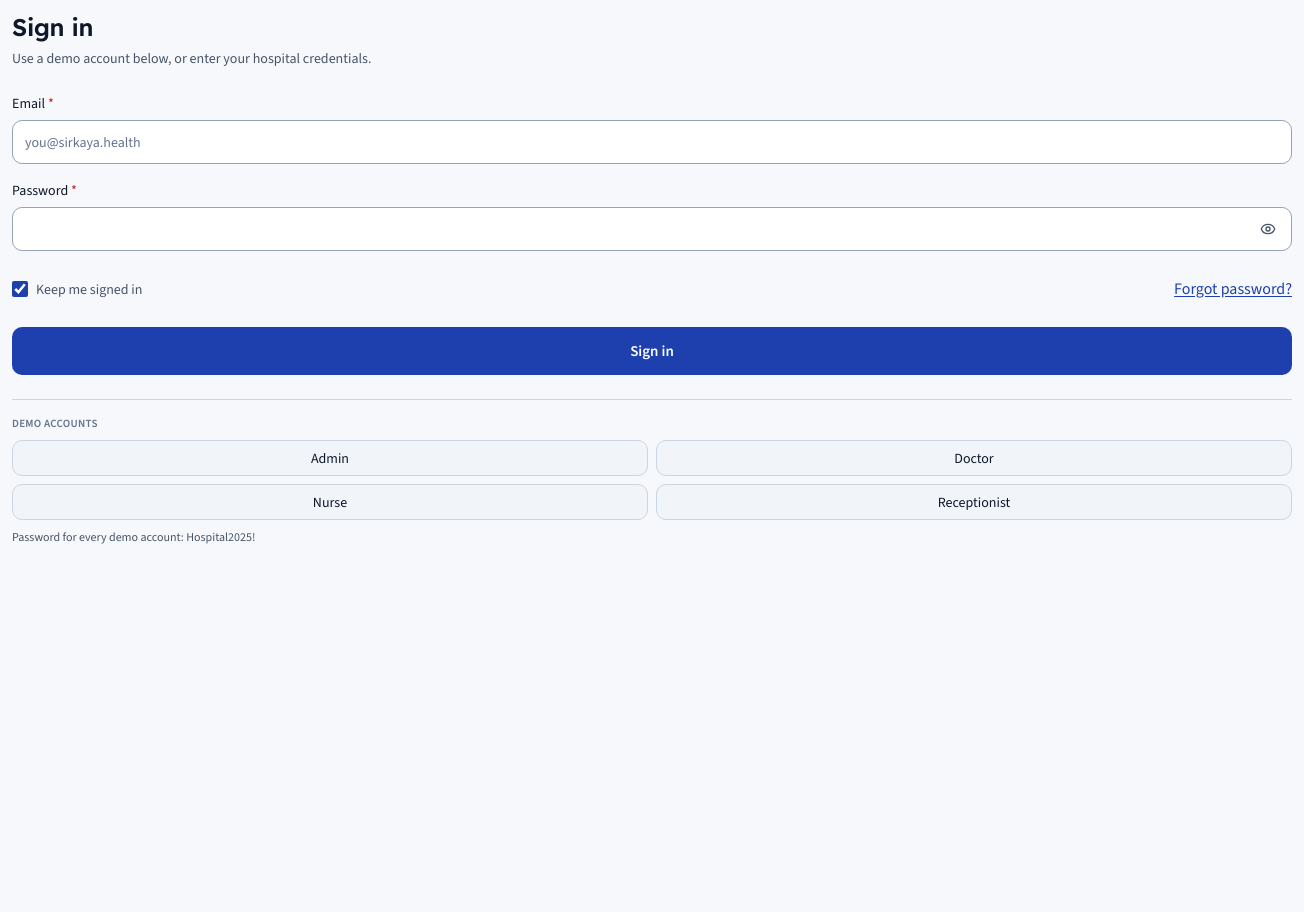
Test: SignInPage a11y (#25/#54) › labels the credentials fields and announces auth errors
expect the password field labelled "Password *" is shown: met, box [12,207,1292,251]
In the field labelled "Email *": (652, 142) [12,120,1292,164], type "bad@test.test"
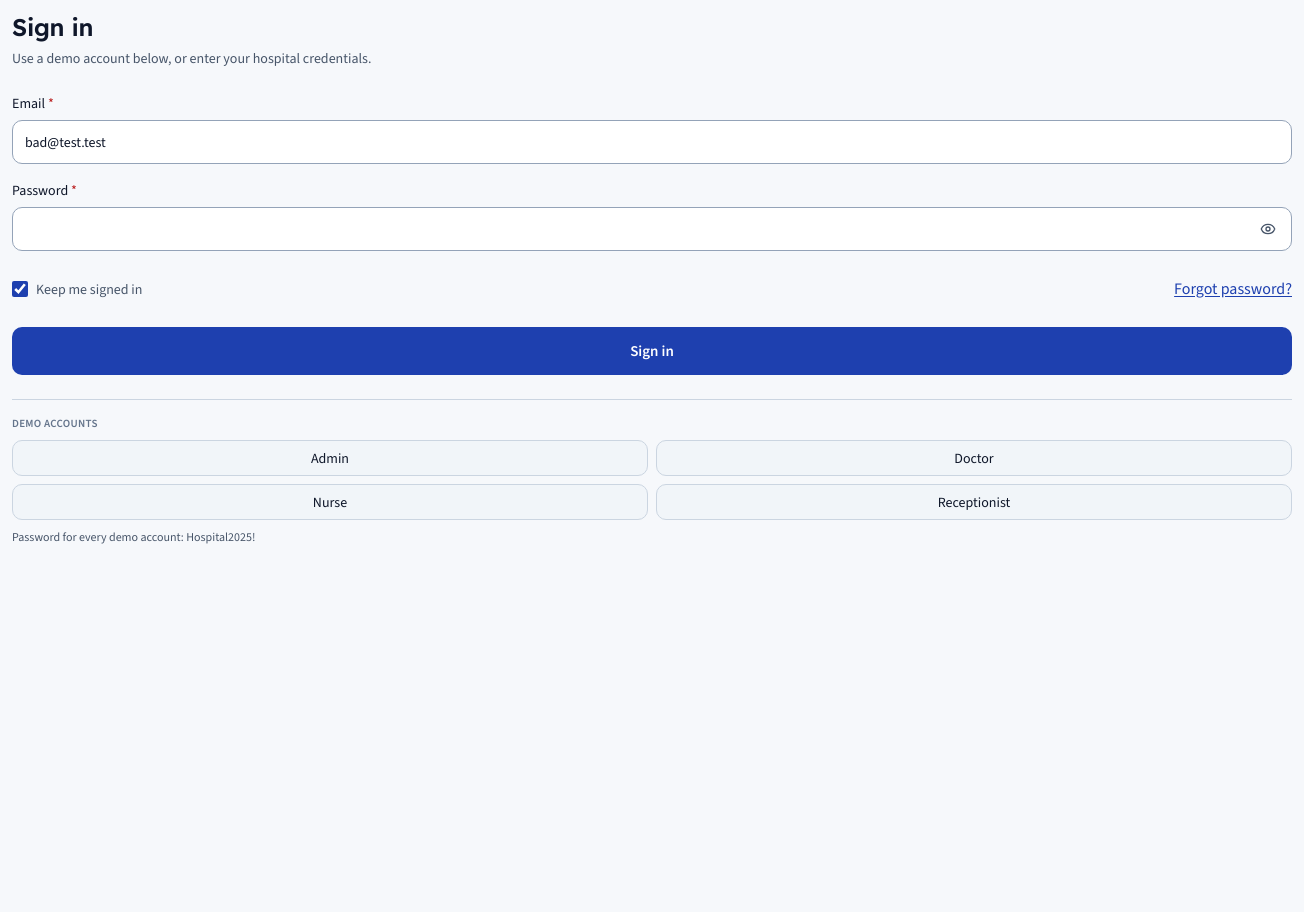
In the password field labelled "Password *": (652, 229) [12,207,1292,251], type "wrong"
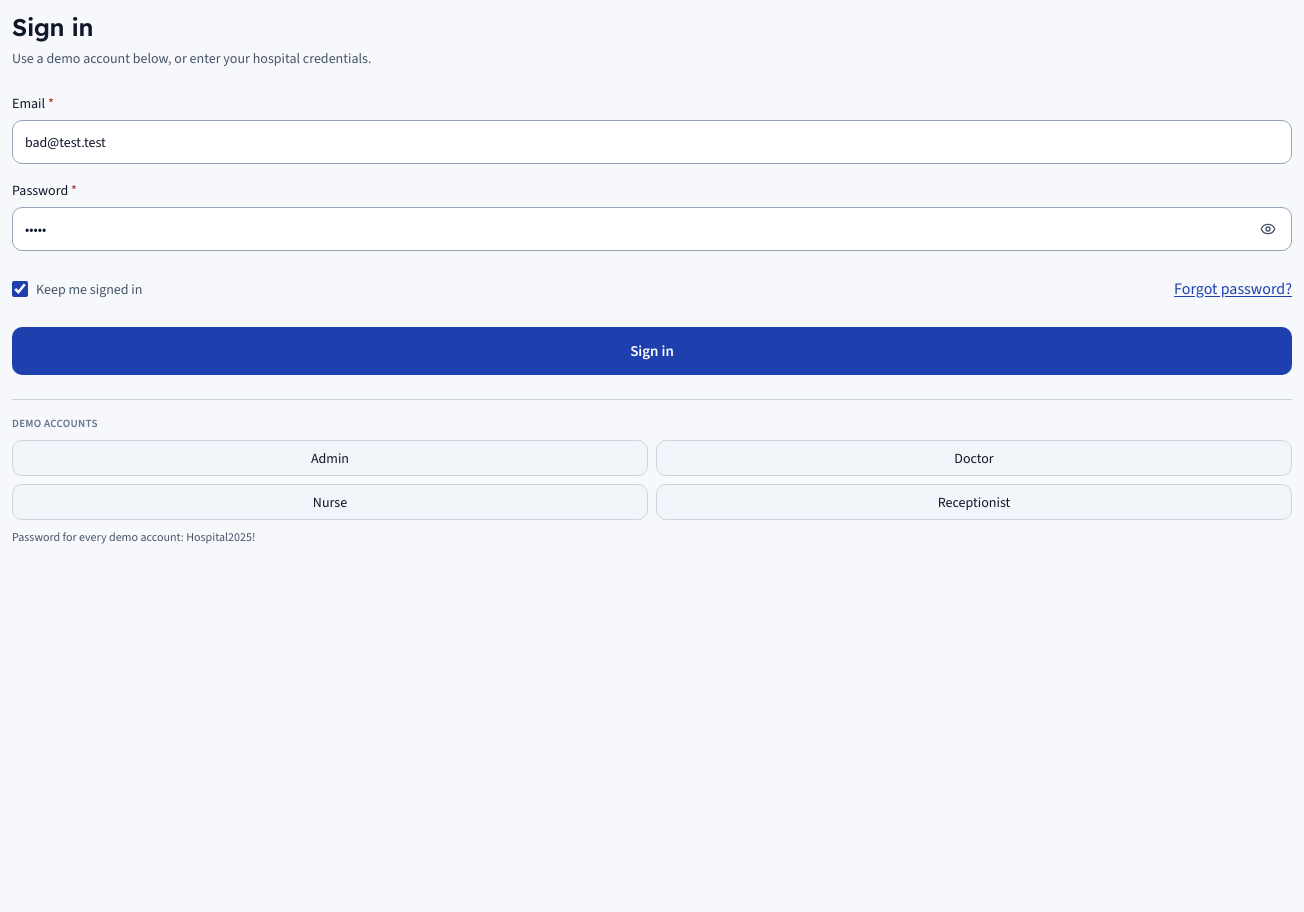
Click the button "Sign in": click(652, 351) [12,327,1292,375]
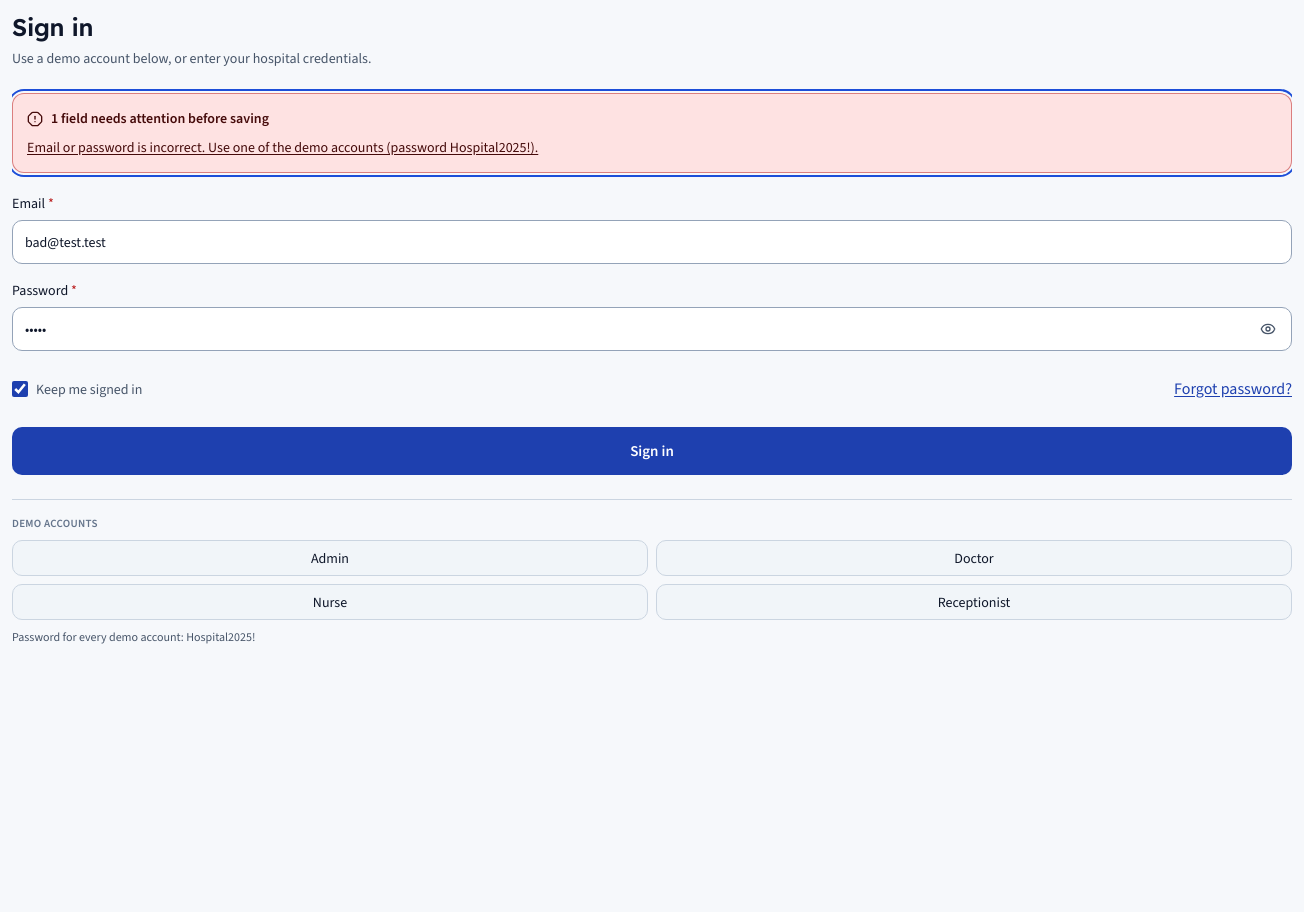
expect the message is shown: met, box [12,93,1292,173]
expect the message shows "incorrect": met, box [27,138,538,157]
